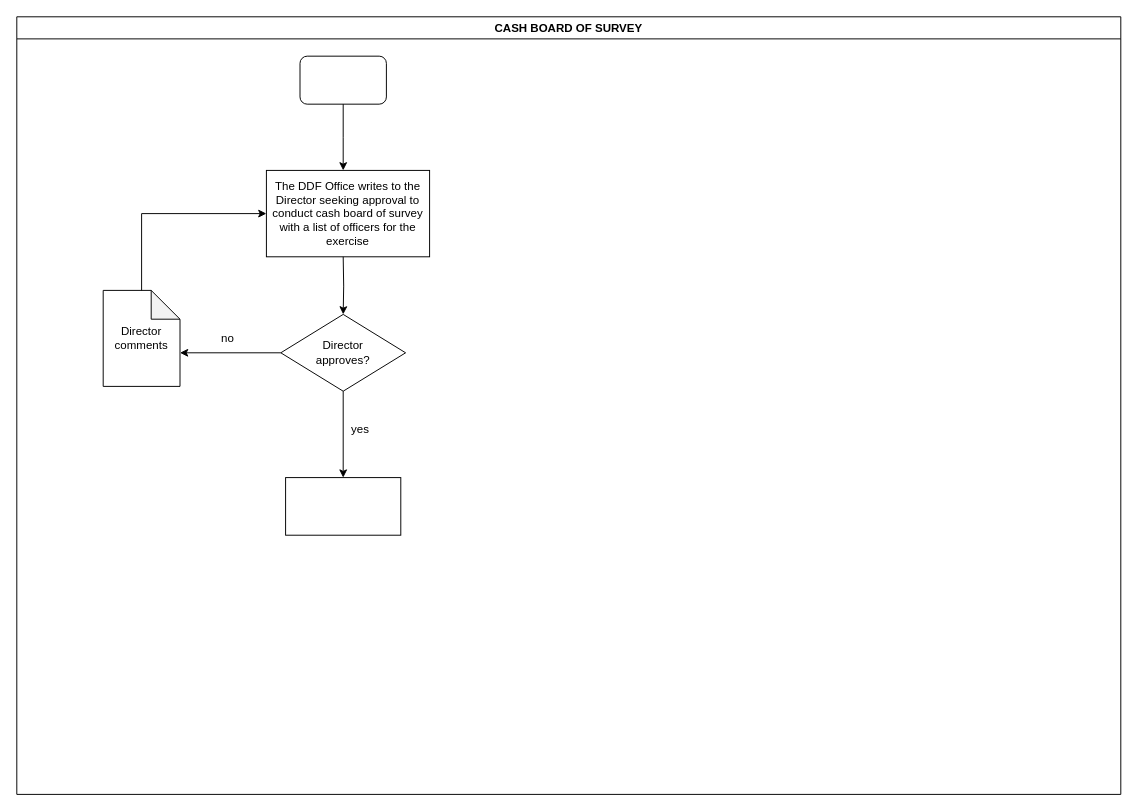
This 1138x811 diagram has some shape labels left out. The shapes that lost their labels are listed below. From the top down, each one's centre as x and y in pixels, then its label:
pixel 342 79: Start
pixel 343 506: Each of the selected members is notified of their appointment
